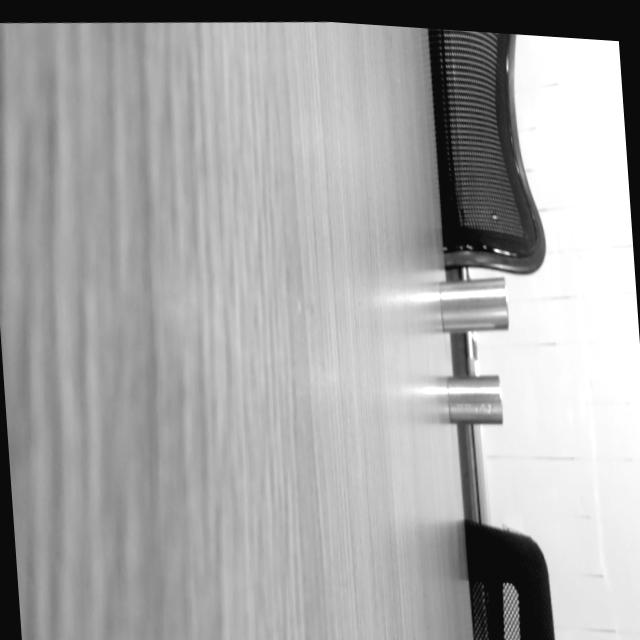Co_Lon: (438, 276, 509, 332)
Co_Nho: (446, 374, 502, 423)
